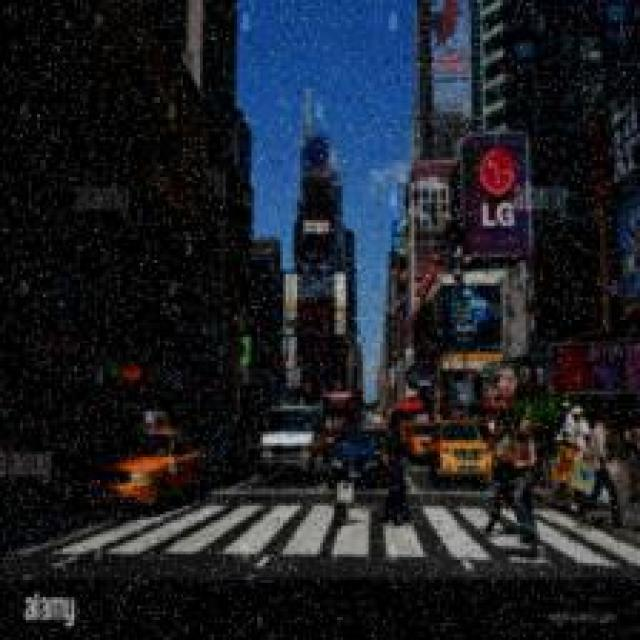crosswalk: (55, 485, 640, 589)
